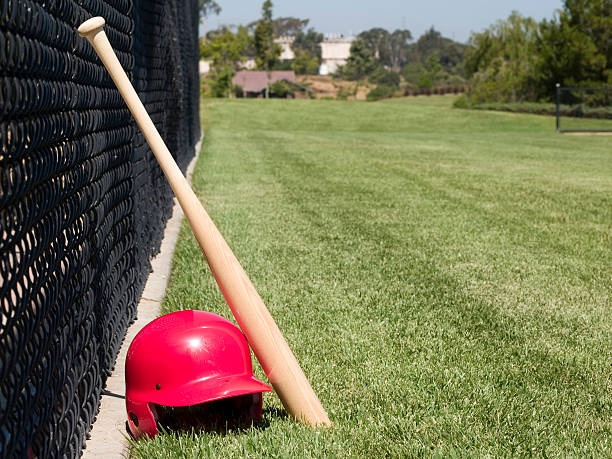bita: (83, 16, 330, 428)
